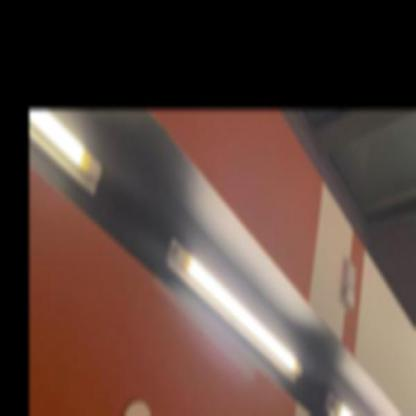light_on: (158, 217, 306, 392), (29, 110, 109, 207), (318, 375, 416, 415)
